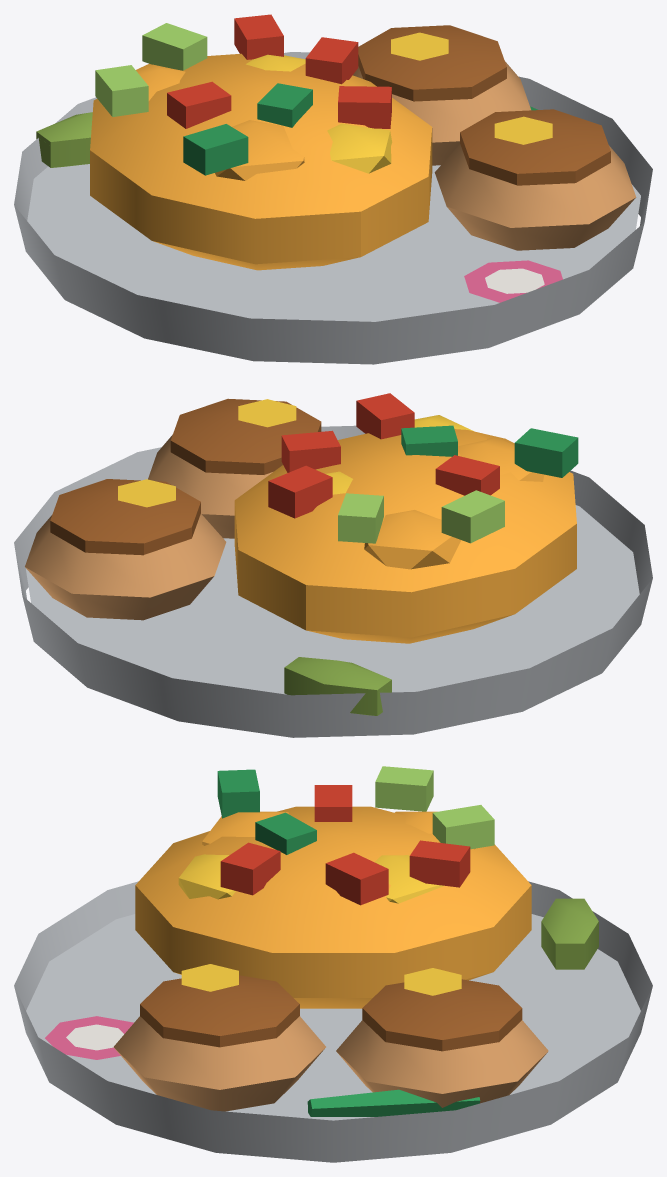
File: pass_bhurji.glb
3 views of the same model, one above another, from view 1: azimuth 30°, elevation 25°; view 2: azimuth 150°, elevation 25°; view 3: azimuth 270°, elevation 25° (orthographic).
Visible parts, largest first — view 1: pass_bhurji; view 2: pass_bhurji; view 3: pass_bhurji.
Part boxes in pixels (<box>): pass_bhurji: <box>14,14,652,364</box>; pass_bhurji: <box>14,393,652,737</box>; pass_bhurji: <box>14,766,652,1162</box>.
Bounding box in the file's own units: 0.27 × 0.08 × 0.27.
1 material, 1 textured.
